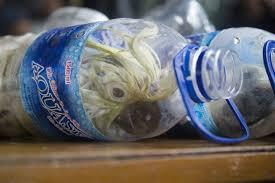Plastic bottle: (3, 22, 275, 148)
